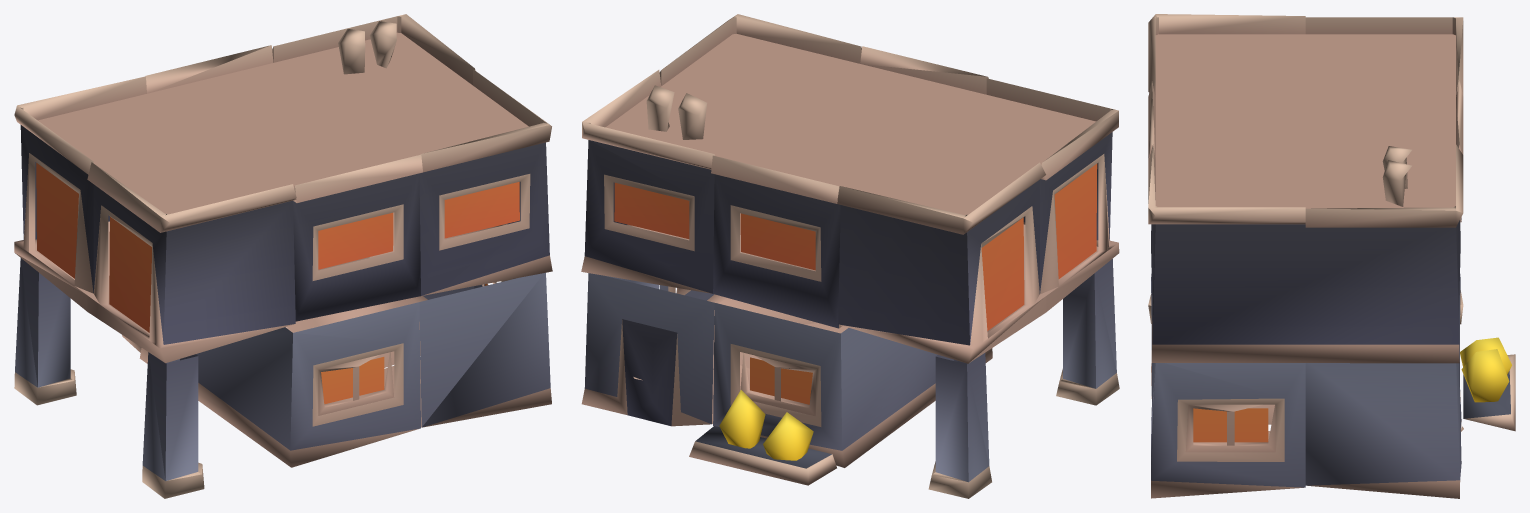
The model's file is casa_p.fbx.
3 views of the same model, side by side, from view 1: azimuth 30°, elevation 25°; view 2: azimuth 150°, elevation 25°; view 3: azimuth 270°, elevation 25° (orthographic). The views are drawn at different scales.
Visible parts, largest first — view 1: casa_p; view 2: casa_p; view 3: casa_p.
Part boxes in pixels (box(x1,y1,x2,y2)): casa_p: box(14, 14, 552, 498); casa_p: box(581, 14, 1119, 498); casa_p: box(1148, 14, 1515, 498).
Size of the model in its own units: 1.24 by 0.9214 by 0.9795.
